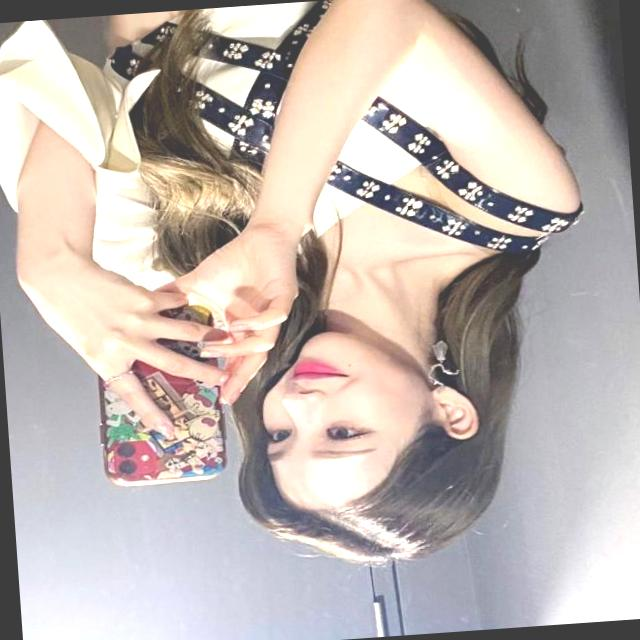lens_back: (115, 457, 136, 475), (114, 441, 136, 458)
phone: (85, 289, 232, 494)
